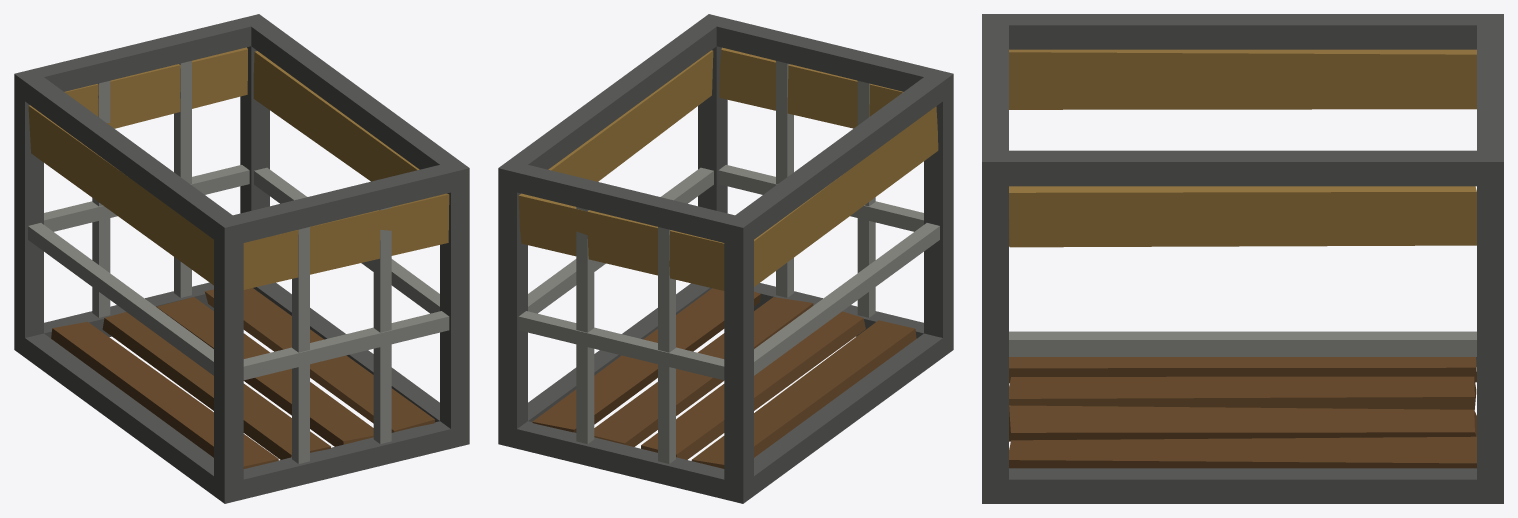
Rendered from cargo_rack.glb.
3 renders of one model, left to right at view 1: azimuth 30°, elevation 25°; view 2: azimuth 150°, elevation 25°; view 3: azimuth 270°, elevation 25°, orthographic. The views are drawn at different scales.
Visible parts, largest first — view 1: cargo_rack; view 2: cargo_rack; view 3: cargo_rack.
Boxes of the visible parts, x1,y1,x2,y2 form: cargo_rack: [14, 14, 469, 503]; cargo_rack: [498, 14, 953, 503]; cargo_rack: [982, 14, 1503, 503].
Size of the model in its own units: 0.65 by 0.7 by 0.968.
